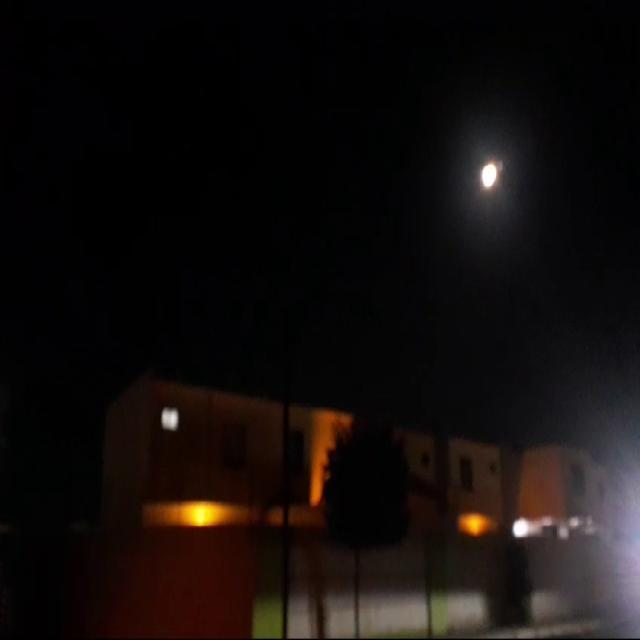moon: (478, 157, 498, 190)
